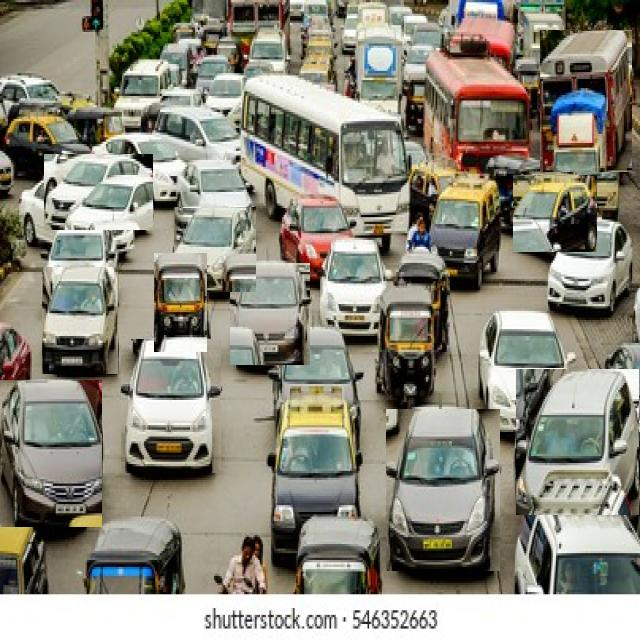autorickshaw: (375, 283, 435, 407), (155, 254, 207, 352)
bus: (241, 76, 409, 247), (540, 31, 632, 172), (425, 50, 530, 170)
car: (386, 410, 500, 571), (516, 370, 639, 515), (268, 390, 362, 562), (0, 380, 102, 527), (121, 339, 221, 473), (479, 310, 575, 432), (20, 179, 134, 252), (42, 267, 118, 374), (45, 155, 153, 230), (230, 264, 310, 365), (430, 179, 501, 289), (549, 222, 632, 311), (174, 208, 256, 292), (320, 240, 390, 335), (514, 175, 597, 252)
truck: (565, 90, 620, 219)
